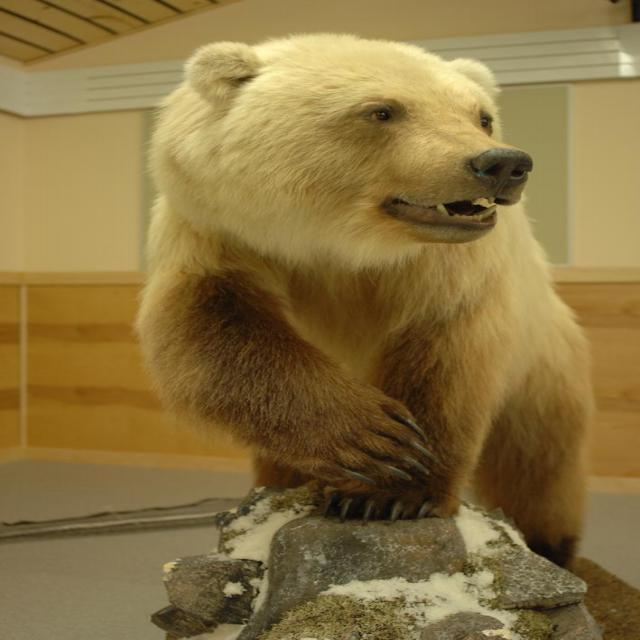Bear: (134, 34, 596, 570)
